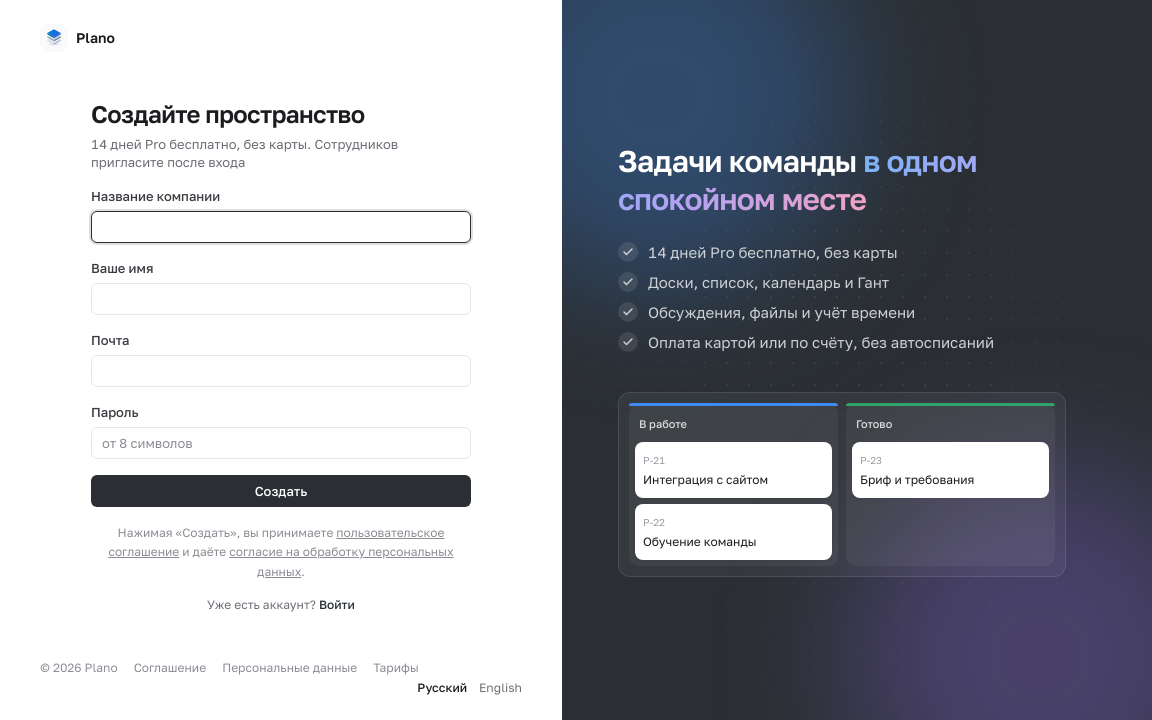
Test: registration › explains a failure
The image size is (1152, 720).
Click the button "Создать". click: point(281, 491)
box: [91, 475, 471, 507]
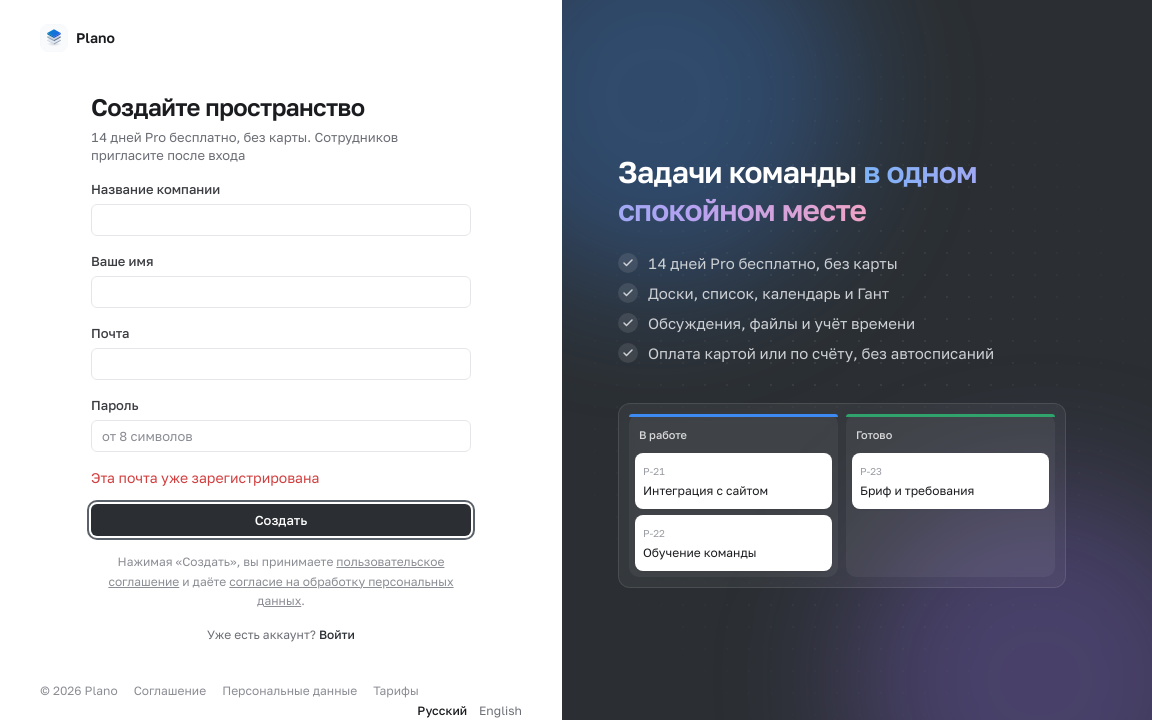
Expected: the text "Эта почта уже зарегистрирована" is shown, [91, 469, 320, 486]
